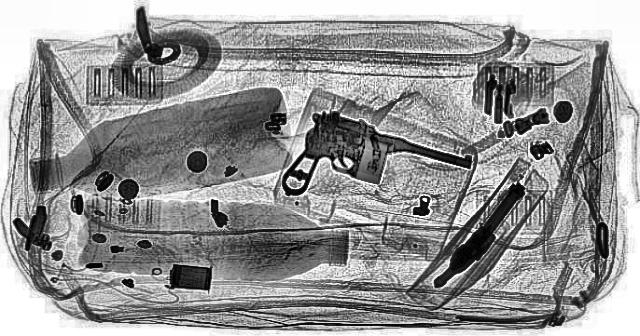Gun: (216, 102, 486, 230), (410, 178, 558, 294)
